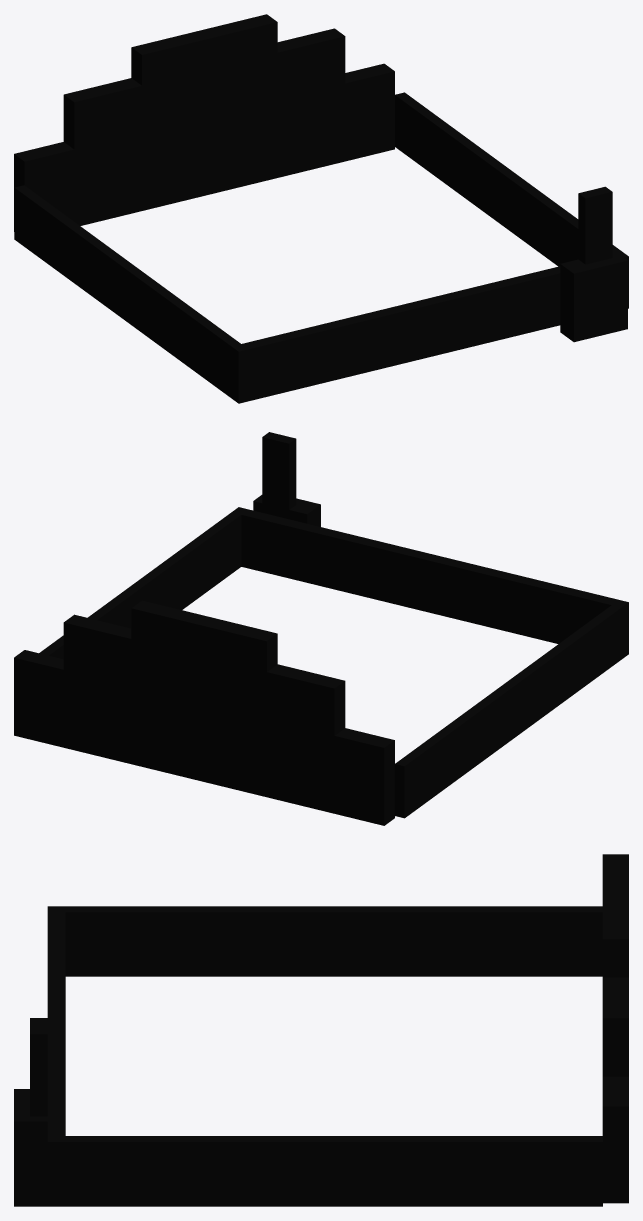
Rendered from head.obj.
3 renders of one model, top to bottom at view 1: azimuth 30°, elevation 25°; view 2: azimuth 150°, elevation 25°; view 3: azimuth 270°, elevation 25°, orthographic. The views are drawn at different scales.
Parts seen in each view (by area): view 1: face_band, rear_band, fold_middle, right_strap, left_strap, fold_point, knot, tie_tail; view 2: face_band, rear_band, fold_middle, right_strap, left_strap, fold_point, tie_tail, knot; view 3: left_strap, right_strap, rear_band, knot, face_band, fold_point, fold_middle, tie_tail.
Part boxes in pixels (<box>): face_band: <box>14,63,394,231</box>; rear_band: <box>231,254,628,403</box>; fold_middle: <box>63,28,345,149</box>; right_strap: <box>14,185,244,400</box>; left_strap: <box>395,92,624,266</box>; fold_point: <box>131,14,277,85</box>; knot: <box>560,250,627,342</box>; tie_tail: <box>578,186,612,264</box>; face_band: <box>14,650,394,825</box>; rear_band: <box>235,507,628,656</box>; fold_middle: <box>63,614,345,735</box>; right_strap: <box>394,602,625,818</box>; left_strap: <box>39,509,244,659</box>; fold_point: <box>131,600,277,671</box>; tie_tail: <box>262,432,296,509</box>; knot: <box>253,495,320,526</box>; left_strap: <box>56,1136,602,1206</box>; right_strap: <box>56,906,602,976</box>; rear_band: <box>47,906,65,1206</box>; knot: <box>14,1089,47,1206</box>; face_band: <box>602,1076,628,1203</box>; fold_point: <box>602,857,628,977</box>; fold_middle: <box>602,854,628,1076</box>; tie_tail: <box>30,1018,47,1116</box>.
Size of the model in its own units: 8.64 by 3.4 by 9.52.
